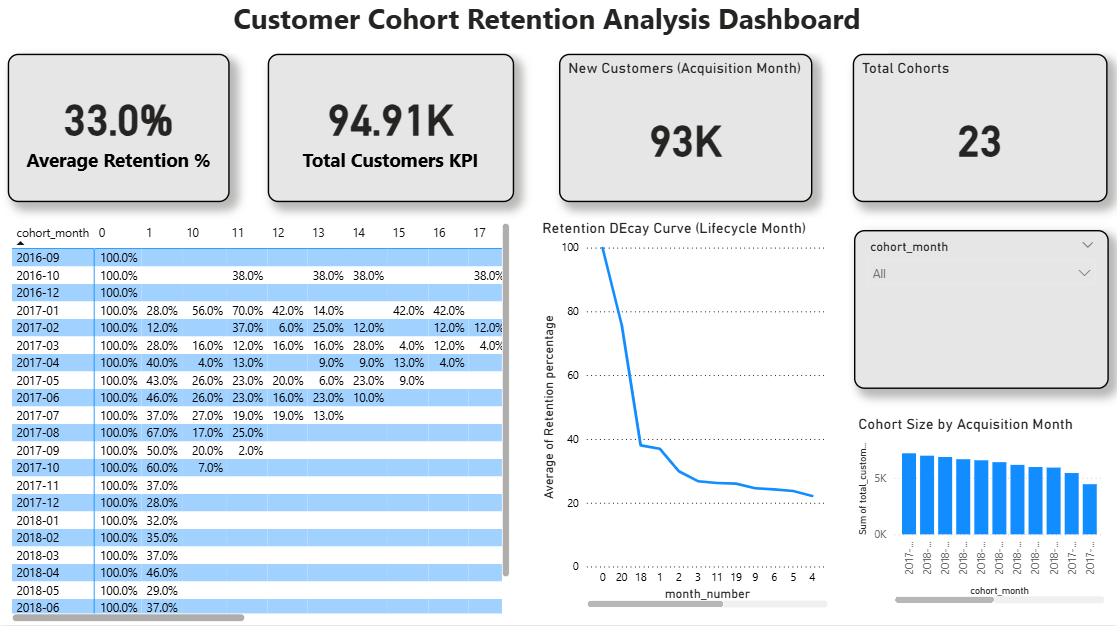

This screenshot's page, from the dashboard's own definition file:
{"tool":"powerbi","page":{"name":"Page 1","canvas":[1280,720],"ordinal":0},"visuals":[{"type":"pivotTable","fields":{"Rows":["cohort_retention_data.cohort_month"],"Columns":["cohort_retention_data.month_number"],"Values":["Min(cohort_retention_data.Retention % Fixed)"]},"box":[10.1,255.2,578.5,465.4],"z":0},{"type":"card","fields":{"Values":["cohort_retention_data.Average Retention %"]},"box":[10.1,66.7,253.7,169.6],"z":1000},{"type":"card","fields":{"Values":["cohort_retention_data.Total Customers KPI"]},"box":[307.4,66.7,281.3,169.6],"z":2000},{"type":"card","title":"New Customers (Acquisition Month)","fields":{"Values":["Sum(cohort_retention_data.total_customers)"]},"box":[639.4,66.7,290,169.6],"z":3000},{"type":"card","title":"Total Cohorts","fields":{"Values":["Count(cohort_retention_data.cohort_month)"]},"box":[975.8,66.7,291.4,169.6],"z":4000},{"type":"lineChart","title":"Retention DEcay Curve (Lifecycle Month)","fields":{"Category":["cohort_retention_data.month_number"],"Y":["Avg(cohort_retention_data.Retention percentage)"]},"box":[616.2,255.2,336.4,449.5],"z":5000},{"type":"textbox","box":[263.3,0,753.4,66.6],"z":6000},{"type":"slicer","fields":{"Values":["cohort_retention_data.cohort_month"]},"box":[977.3,268.2,291.4,181.2],"z":7000},{"type":"clusteredColumnChart","title":"Cohort Size by Acquisition Month","fields":{"Category":["cohort_retention_data.cohort_month"],"Y":["Sum(cohort_retention_data.total_customers)"]},"box":[977.3,479.9,291.4,220.4],"z":8000}]}

Visuals, with their boxes in screenshot pixels (x1, y1, x2, y2), scaled from the page's 1280x720 canvas onto the 1117x626 screenshot:
pivotTable - cohort_retention_data.cohort_month x cohort_retention_data.month_number: 9/222/514/625
card - cohort_retention_data.Average Retention %: 9/58/230/205
card - cohort_retention_data.Total Customers KPI: 268/58/514/205
"New Customers (Acquisition Month)" card: 558/58/811/205
"Total Cohorts" card: 852/58/1106/205
"Retention DEcay Curve (Lifecycle Month)" lineChart: 538/222/831/613
textbox: 230/0/887/58
slicer - cohort_retention_data.cohort_month: 853/233/1107/391
"Cohort Size by Acquisition Month" clusteredColumnChart: 853/417/1107/609
